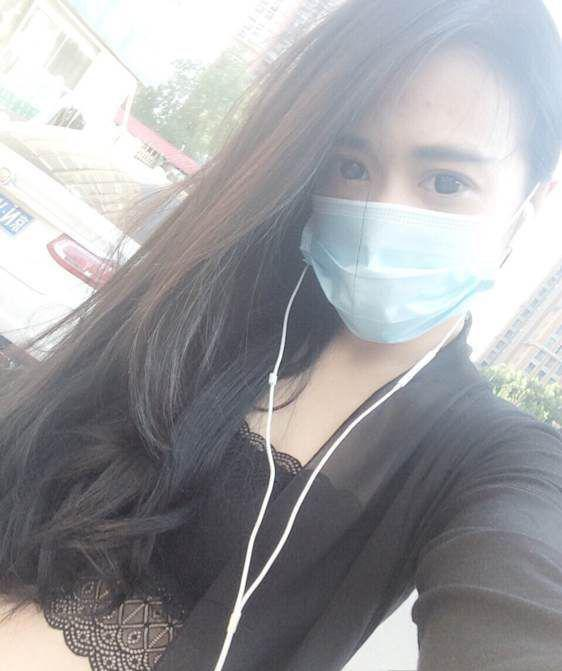OK: (307, 126, 517, 336)
